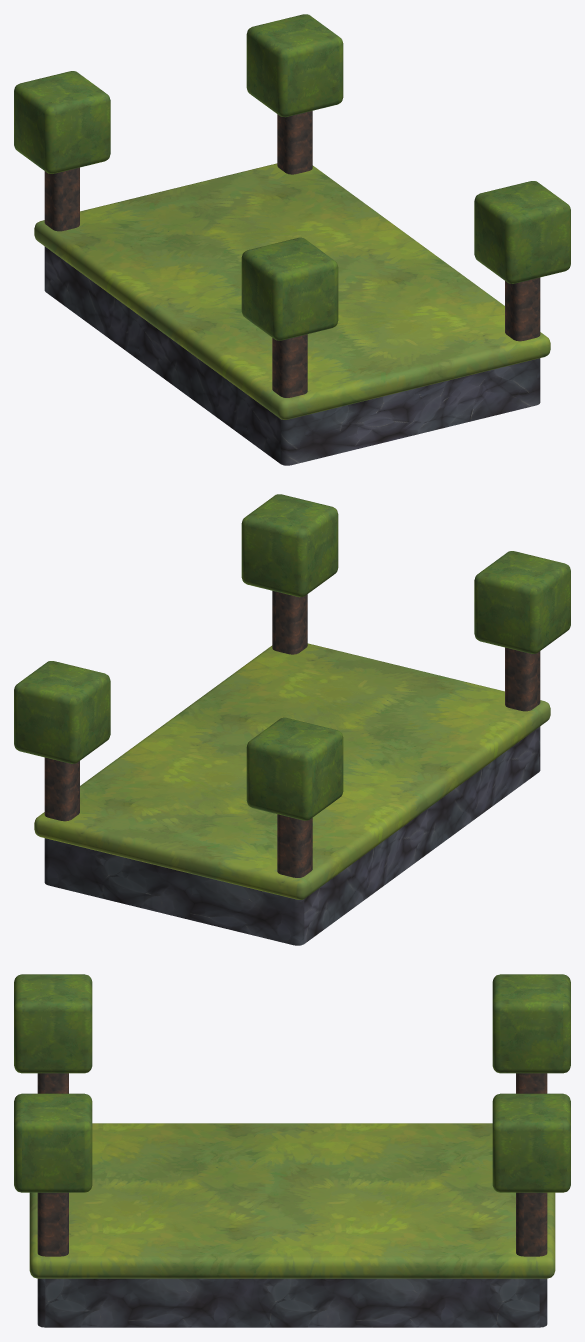
The model's file is GroundMap.fbx.
3 renders of one model, top to bottom at view 1: azimuth 30°, elevation 25°; view 2: azimuth 150°, elevation 25°; view 3: azimuth 270°, elevation 25°, orthographic. The views are drawn at different scales.
Parts seen in each view (by area): view 1: GroundMap; view 2: GroundMap; view 3: GroundMap.
Boxes of the visible parts, x1,y1,x2,y2 form: GroundMap: (14, 14, 570, 465); GroundMap: (14, 494, 570, 945); GroundMap: (14, 974, 570, 1327).
Size of the model in its own units: 920 by 600 by 1420.
